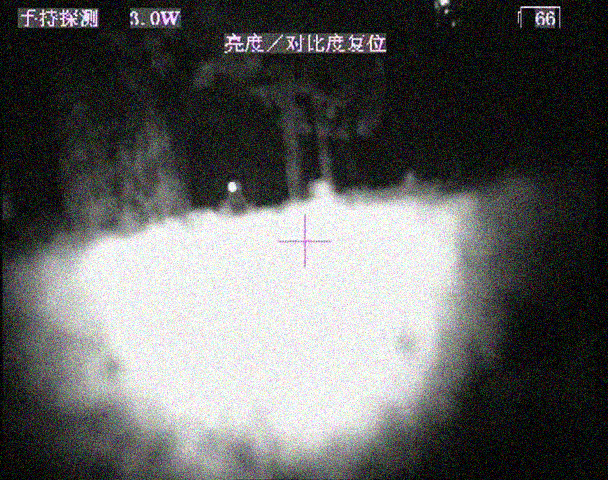my: (227, 179, 237, 192)
